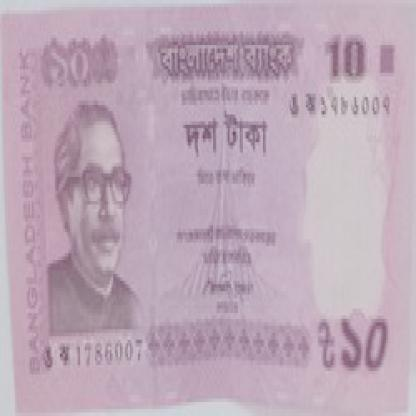Ten Taka: (336, 302, 394, 381), (318, 14, 369, 87), (45, 31, 91, 97)
